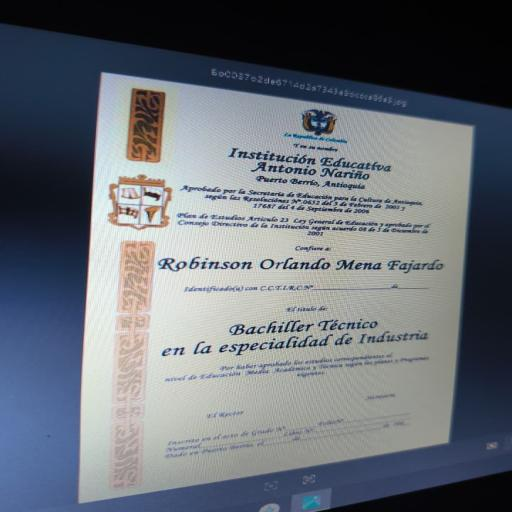diploma: (78, 75, 474, 499)
institucion: (225, 140, 417, 183)
nombre: (140, 248, 443, 281)
